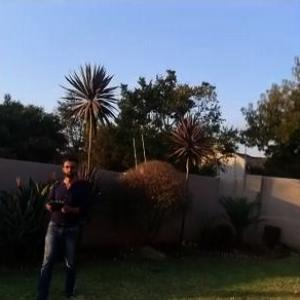follow: (26, 149, 94, 299)
